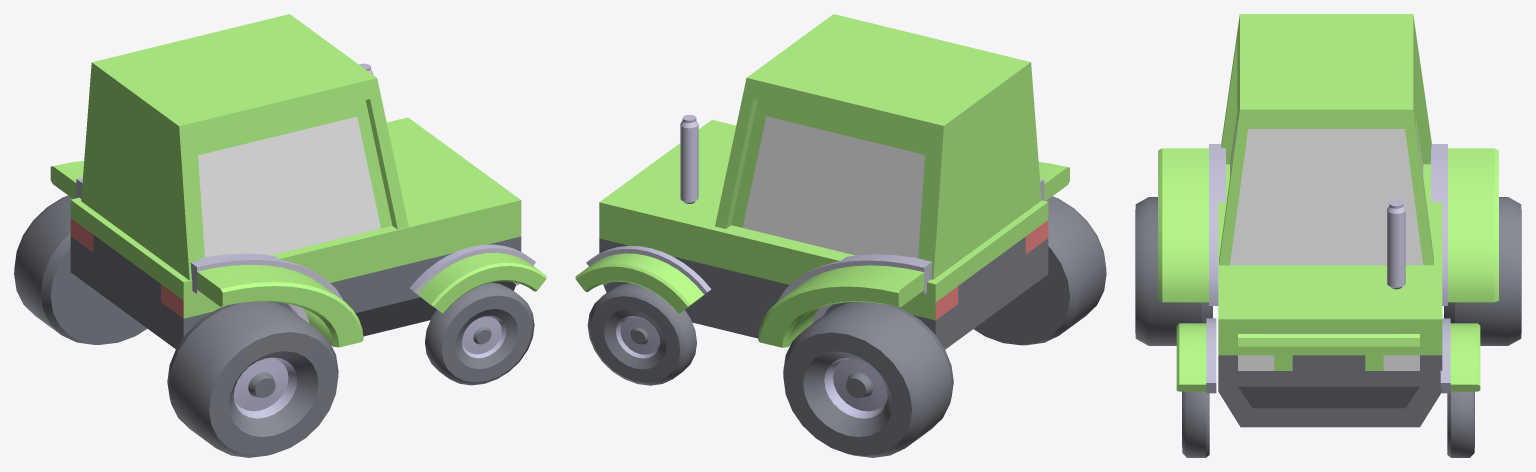
File: asset.glb
The picture shows the model from 3 angles, left to right: view 1: azimuth 30°, elevation 25°; view 2: azimuth 150°, elevation 25°; view 3: azimuth 270°, elevation 25°; orthographic projection.
Visible parts, largest first — view 1: '9; view 2: '9; view 3: '9.
Boxes of the visible parts, x1,y1,x2,y2 form: '9: (14,14,546,457); '9: (575,14,1106,457); '9: (1135,14,1521,457).
Bounding box in the file's own units: 8.6 × 6.79 × 7.84.
